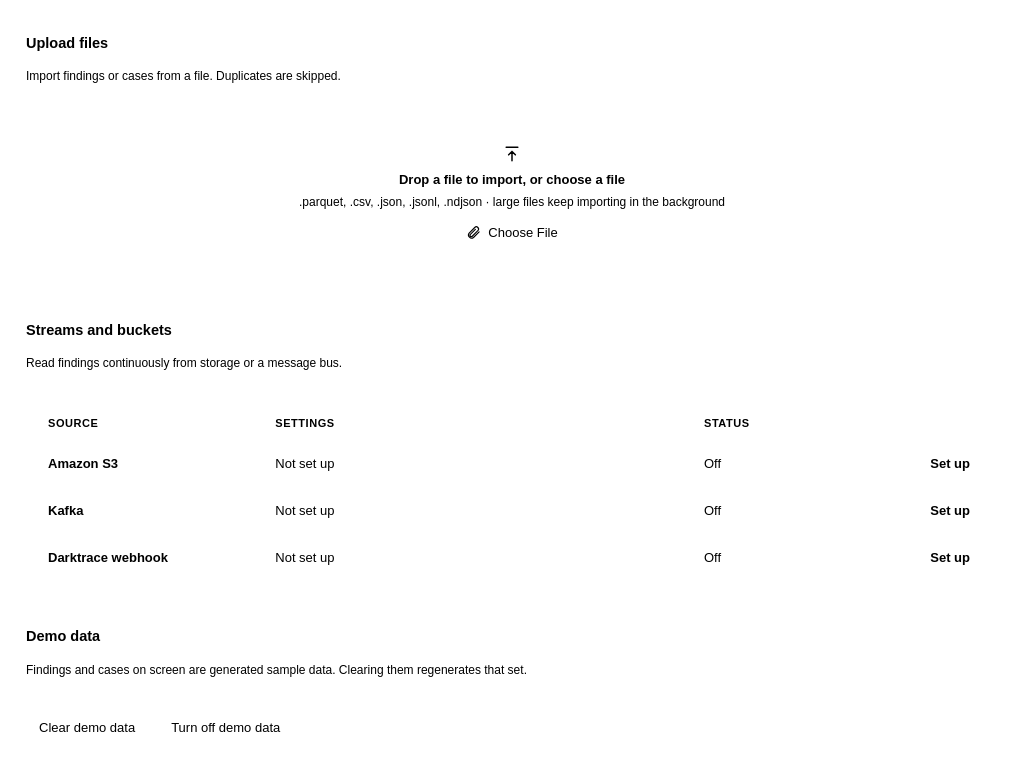
manual upload › clears demo data and reports the regenerated counts
Click the button "Clear demo data".
click(87, 728)  # box [26,712,148,743]
(page scrolled)
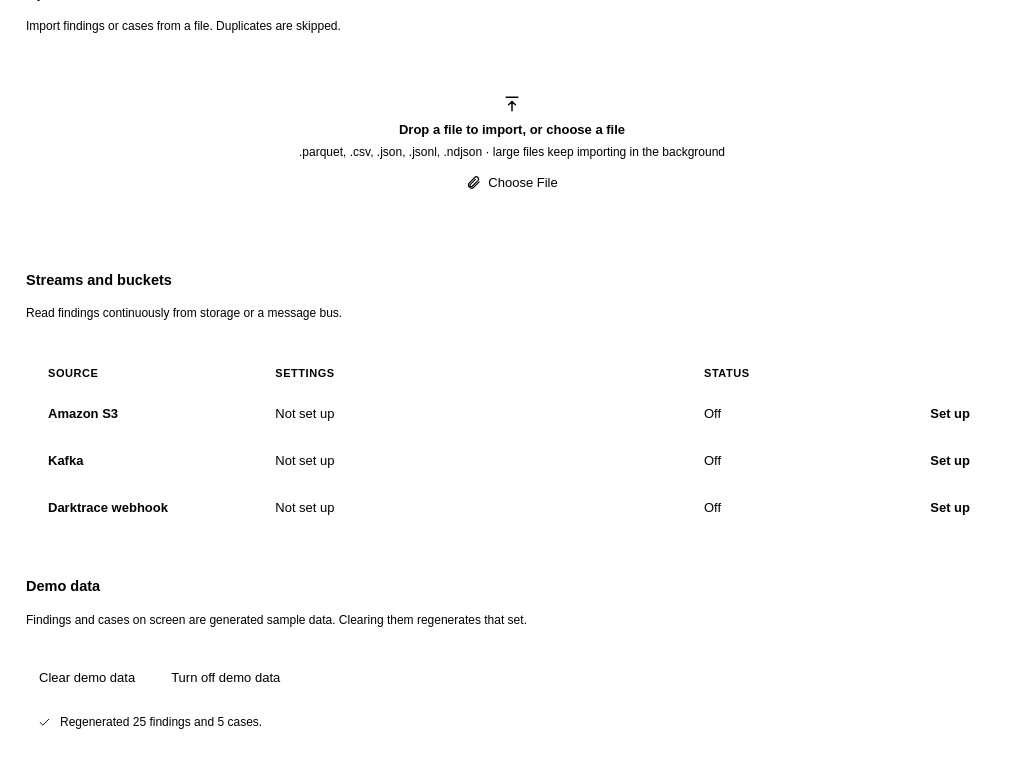
expect the text "Regenerated 25 findings and 5 cases." is shown: met, box [60,714,262,730]
